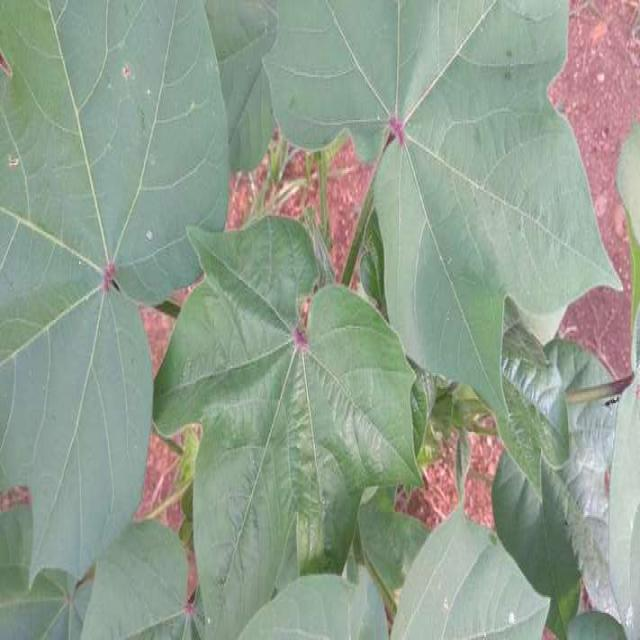Healthy Leaf: (0, 5, 639, 640)
